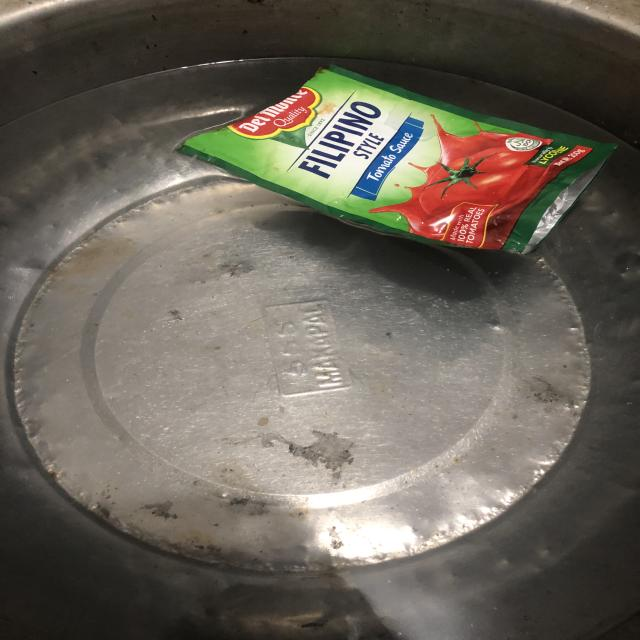Plastic Pouch: (176, 66, 616, 254)
